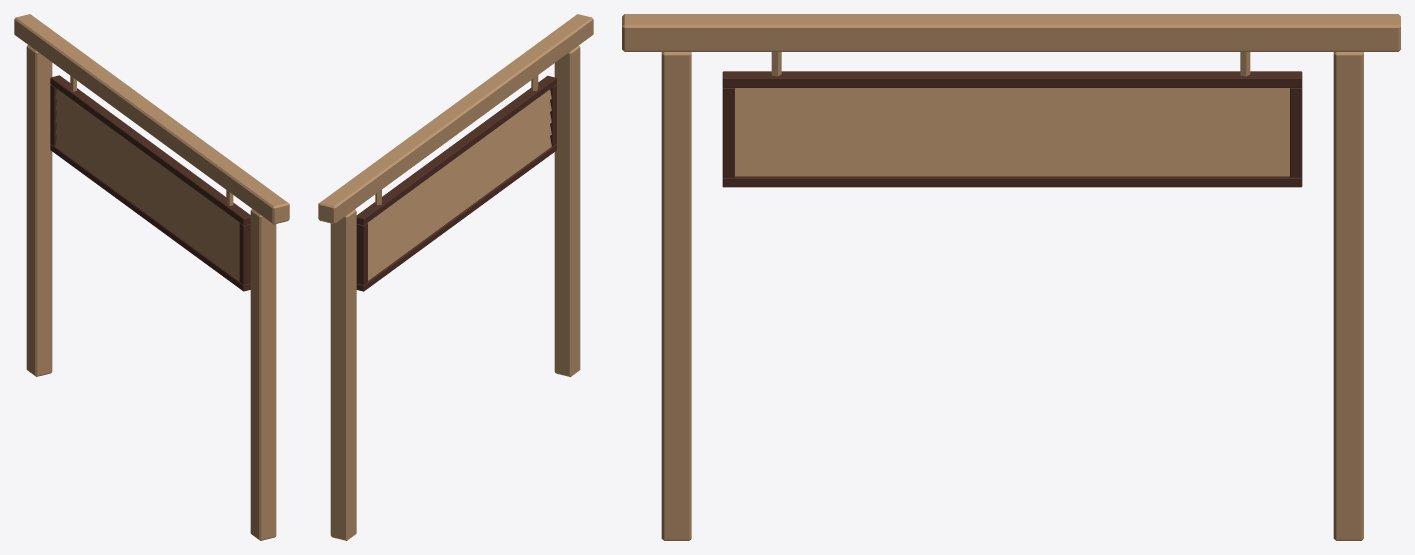
File: welcome-sign.glb
3 views of the same model, side by side, from view 1: azimuth 30°, elevation 25°; view 2: azimuth 150°, elevation 25°; view 3: azimuth 270°, elevation 25° (orthographic). The views are drawn at different scales.
Visible parts, largest first — view 1: Welcome Sign (×2); view 2: Welcome Sign (×2); view 3: Welcome Sign (×2).
Part boxes in pixels (bbox=[...]): Welcome Sign (×2): bbox=[14, 14, 289, 540]; Welcome Sign (×2): bbox=[318, 14, 593, 540]; Welcome Sign (×2): bbox=[622, 14, 1400, 540].
Size of the model in its own units: 0.2731 by 5.17 by 7.06.
